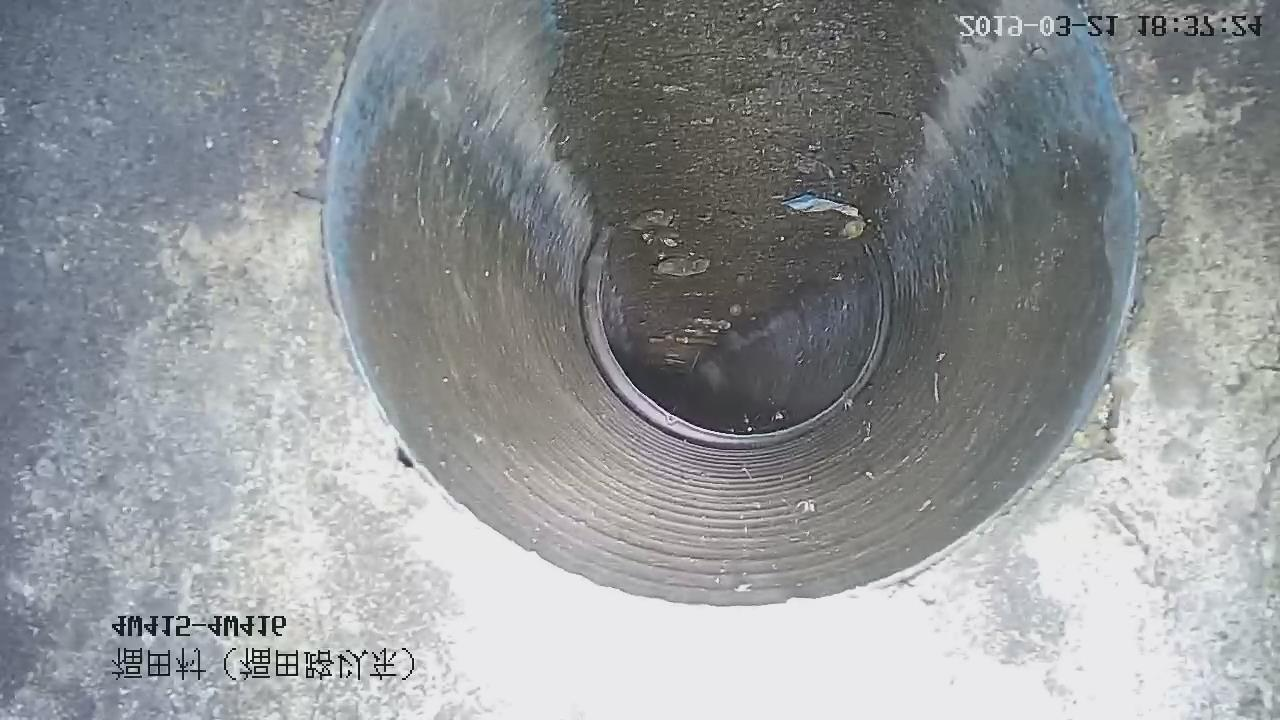CJ: (552, 1, 942, 375)
CKTJ: (579, 229, 890, 450)
